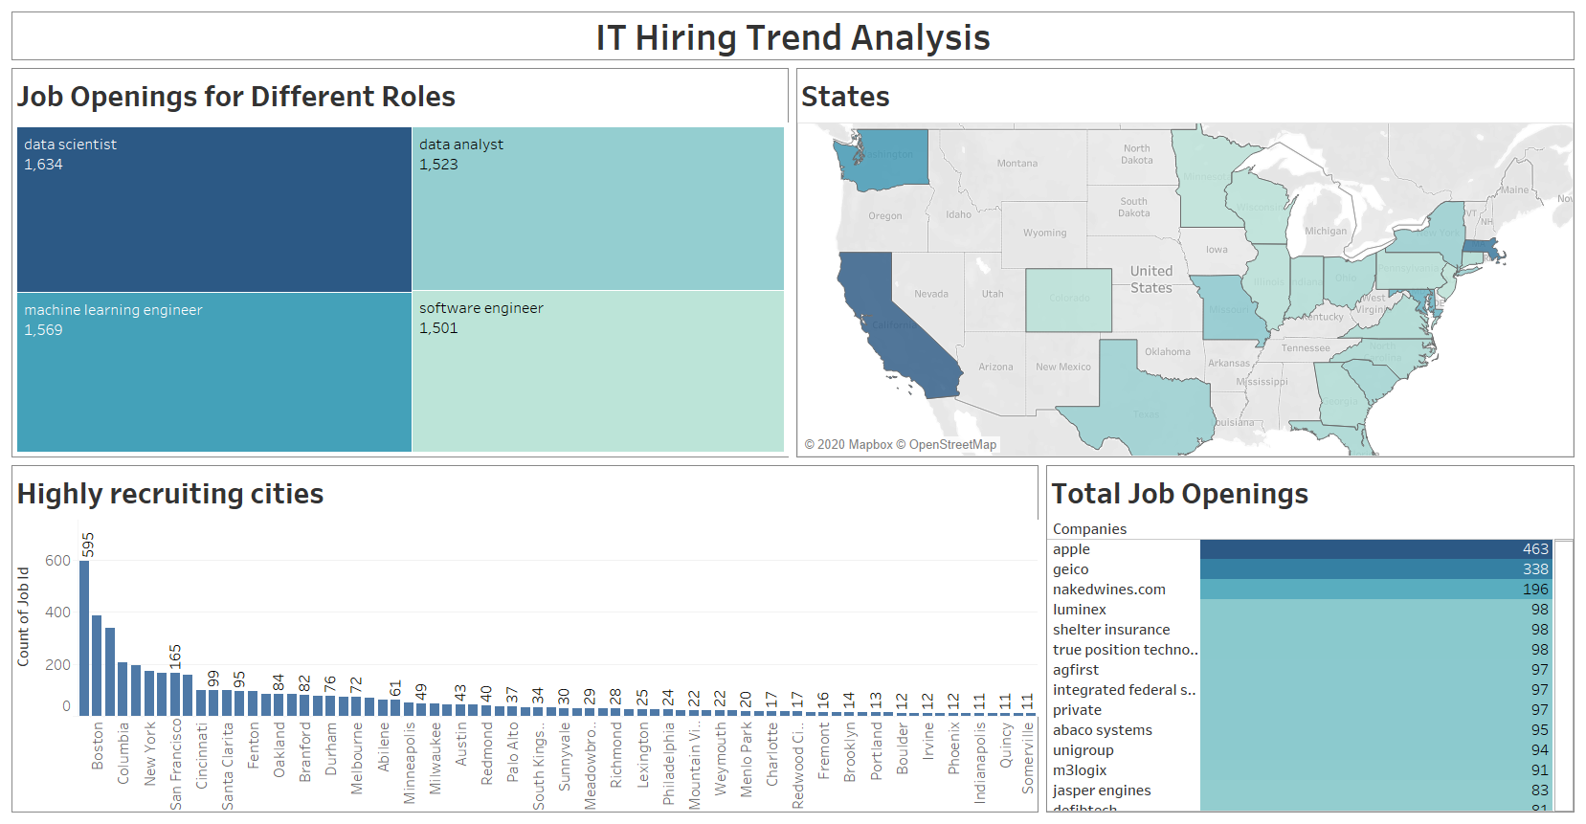

The page's visual inventory and layout, read from the dashboard file:
{"tool":"tableau","page":{"name":"IT Hiring Trend Analysis","canvas":[1000,1000],"units":"permille","ordinal":0},"visuals":[{"type":"worksheet","box":[0,0,1000,1000]},{"type":"worksheet","param":"horz","box":[4.8,9.3,990.3,981.4]},{"type":"worksheet","param":"horz","box":[4.8,9.3,990.3,981.4]},{"type":"worksheet","param":"vert","box":[4.8,9.3,990.3,981.4]},{"type":"worksheet","box":[4.8,9.3,990.3,68.5]},{"type":"worksheet","param":"horz","box":[4.8,77.8,990.3,912.9]},{"type":"worksheet","param":"horz","box":[4.8,77.8,990.3,912.9]},{"type":"worksheet","param":"horz","box":[4.8,77.8,990.3,912.9]},{"type":"worksheet","param":"horz","box":[4.8,77.8,990.3,912.9]},{"type":"worksheet","param":"horz","box":[4.8,77.8,990.3,912.9]},{"type":"worksheet","box":[4.8,77.8,990.3,912.9]},{"type":"worksheet","title":"job roles","mark":"Automatic","box":[4.8,77.8,494.8,481.7]},{"type":"worksheet","title":"states","mark":"Automatic","box":[499.6,77.8,495.6,481.7]},{"type":"worksheet","title":"cities","mark":"Automatic","rows":["job_id"],"cols":["location - Split 1"],"box":[4.8,559.5,652.4,431.2]},{"type":"worksheet","title":"Total Job Openings","mark":"Square","rows":["Calculation_1451566513569865728"],"box":[657.2,559.5,338,431.2]}]}

Visuals, with their boxes on the dashboard's canvas, which has no fixed pixel size, in thousandths of its width and height (x1, y1, x2, y2). These are canvas units, not pixel positions in the 1586x824 screenshot, which may show the page scaled, cropped or inside an application window:
worksheet: bbox=(0, 0, 1000, 1000)
worksheet: bbox=(5, 9, 995, 991)
worksheet: bbox=(5, 9, 995, 991)
worksheet: bbox=(5, 9, 995, 991)
worksheet: bbox=(5, 9, 995, 78)
worksheet: bbox=(5, 78, 995, 991)
worksheet: bbox=(5, 78, 995, 991)
worksheet: bbox=(5, 78, 995, 991)
worksheet: bbox=(5, 78, 995, 991)
worksheet: bbox=(5, 78, 995, 991)
worksheet: bbox=(5, 78, 995, 991)
"job roles" worksheet: bbox=(5, 78, 500, 560)
"states" worksheet: bbox=(500, 78, 995, 560)
"cities" worksheet: bbox=(5, 560, 657, 991)
"Total Job Openings" worksheet (Square marks): bbox=(657, 560, 995, 991)
